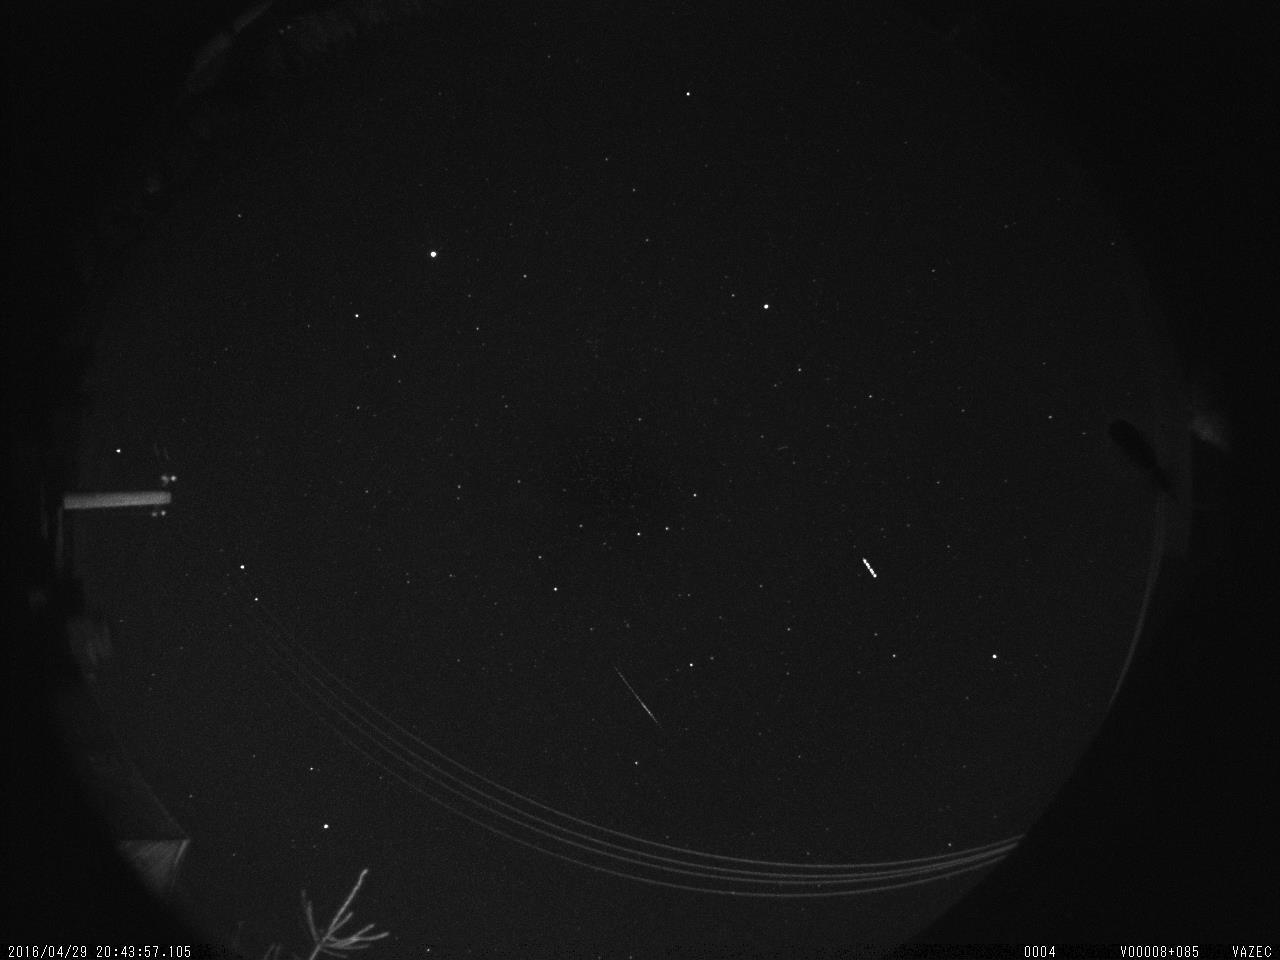Meteor: (609, 656, 668, 740)
